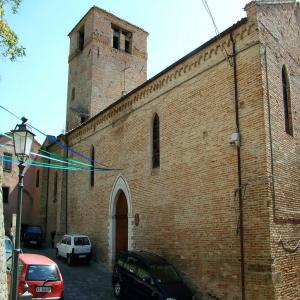Vehicle-registration-plate: (37, 287, 53, 294), (80, 255, 86, 259), (31, 242, 38, 245)
